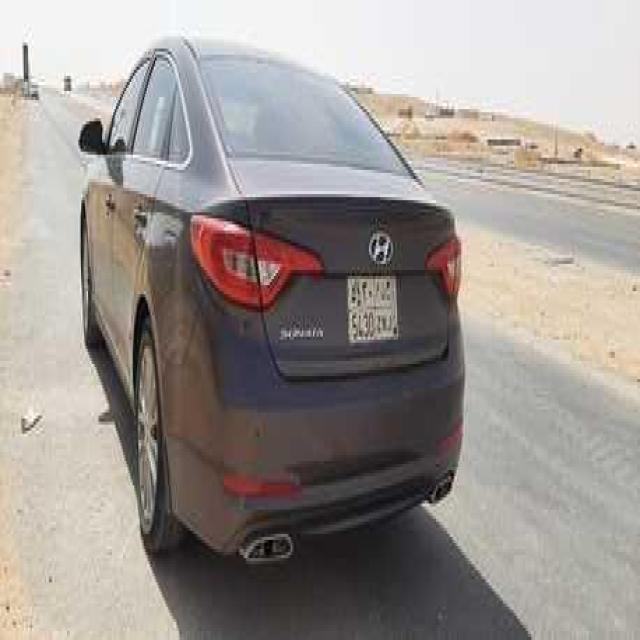license_plate: (339, 252, 404, 352)
